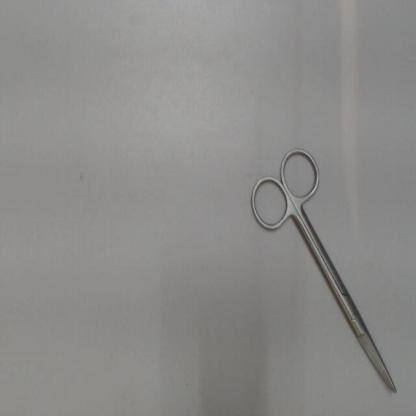Curved Mayo Scissors: (247, 138, 403, 398)
